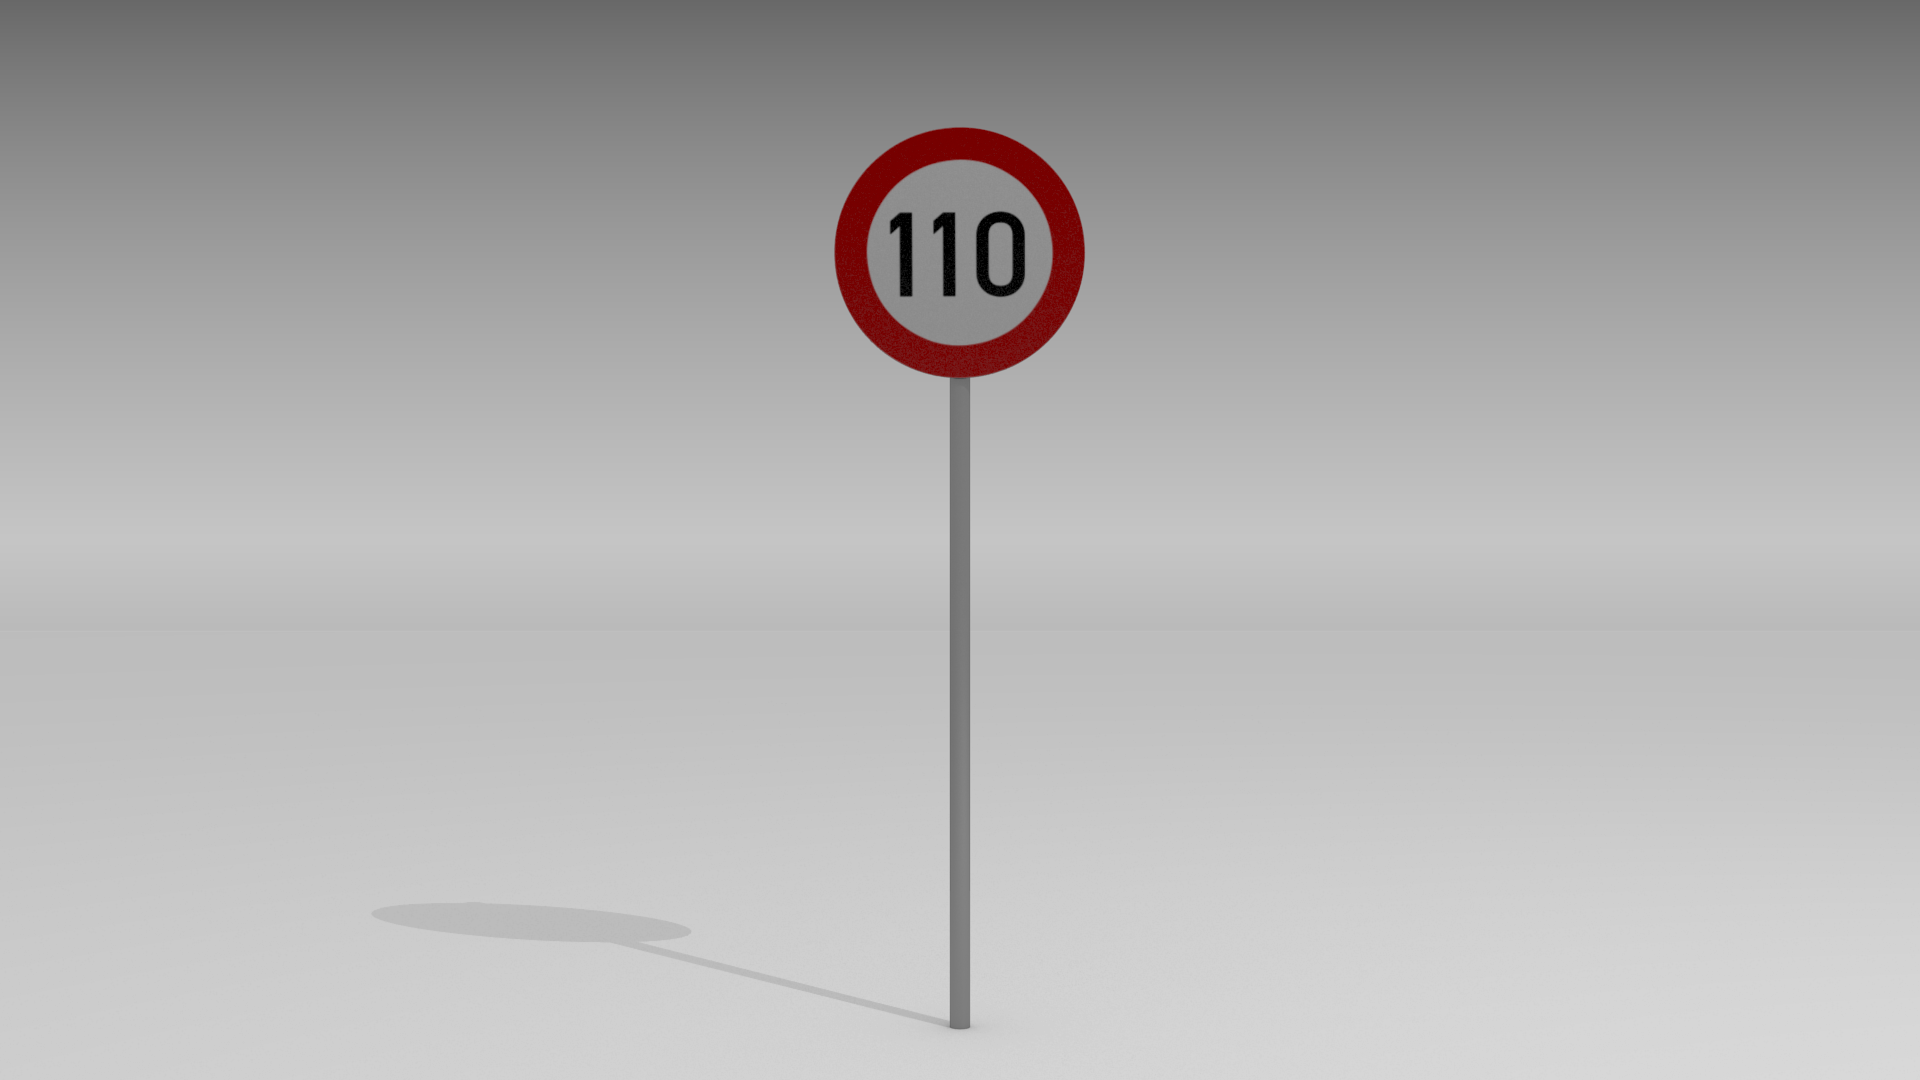Speed_limit_110km: (832, 127, 1089, 378)
